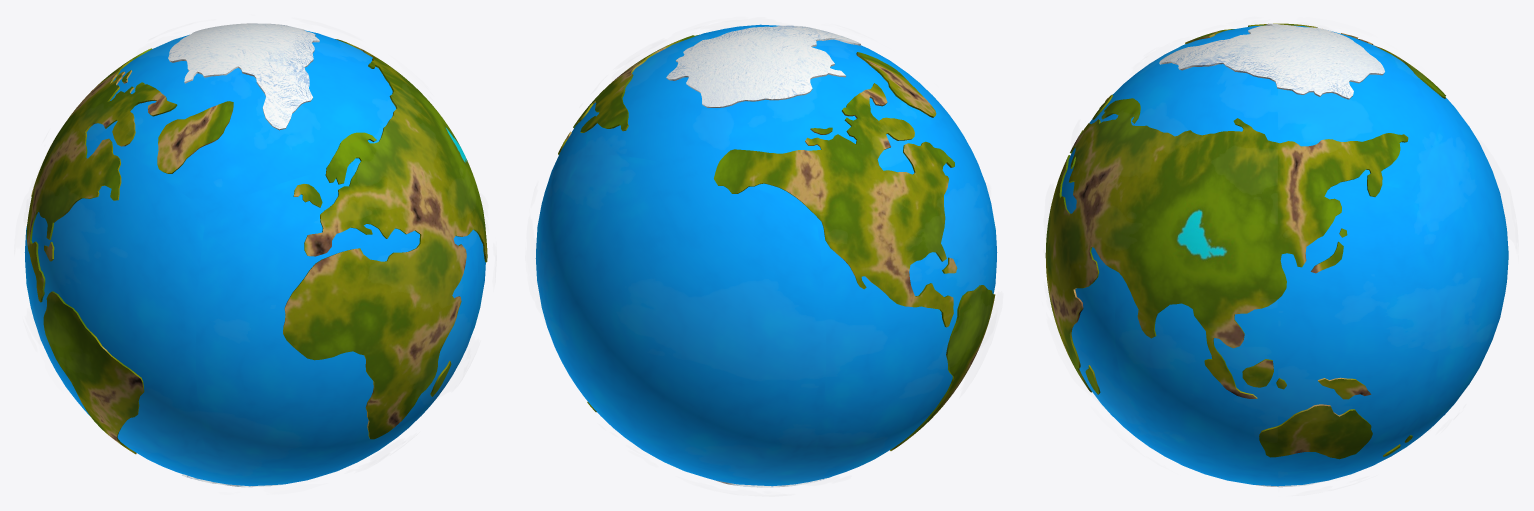
The model's file is littleEarth-transformed.glb.
3 renders of one model, left to right at view 1: azimuth 30°, elevation 25°; view 2: azimuth 150°, elevation 25°; view 3: azimuth 270°, elevation 25°, orthographic.
Parts seen in each view (by area): view 1: Ocean, CONT_Extrude, SP_Extrude; view 2: Ocean, CONT_Extrude, SP_Extrude; view 3: Ocean, CONT_Extrude, SP_Extrude.
Part boxes in pixels (box(x1,y1,x2,y2)): Ocean: box(24, 30, 485, 486); CONT_Extrude: box(26, 39, 487, 454); SP_Extrude: box(168, 23, 319, 130); Ocean: box(535, 24, 997, 486); CONT_Extrude: box(558, 34, 995, 450); SP_Extrude: box(666, 25, 860, 107); Ocean: box(1061, 25, 1508, 486); CONT_Extrude: box(1045, 23, 1445, 459); SP_Extrude: box(1159, 23, 1384, 99).
Size of the model in its own units: 1040 by 1040 by 1040.
4 materials, 3 textured.
